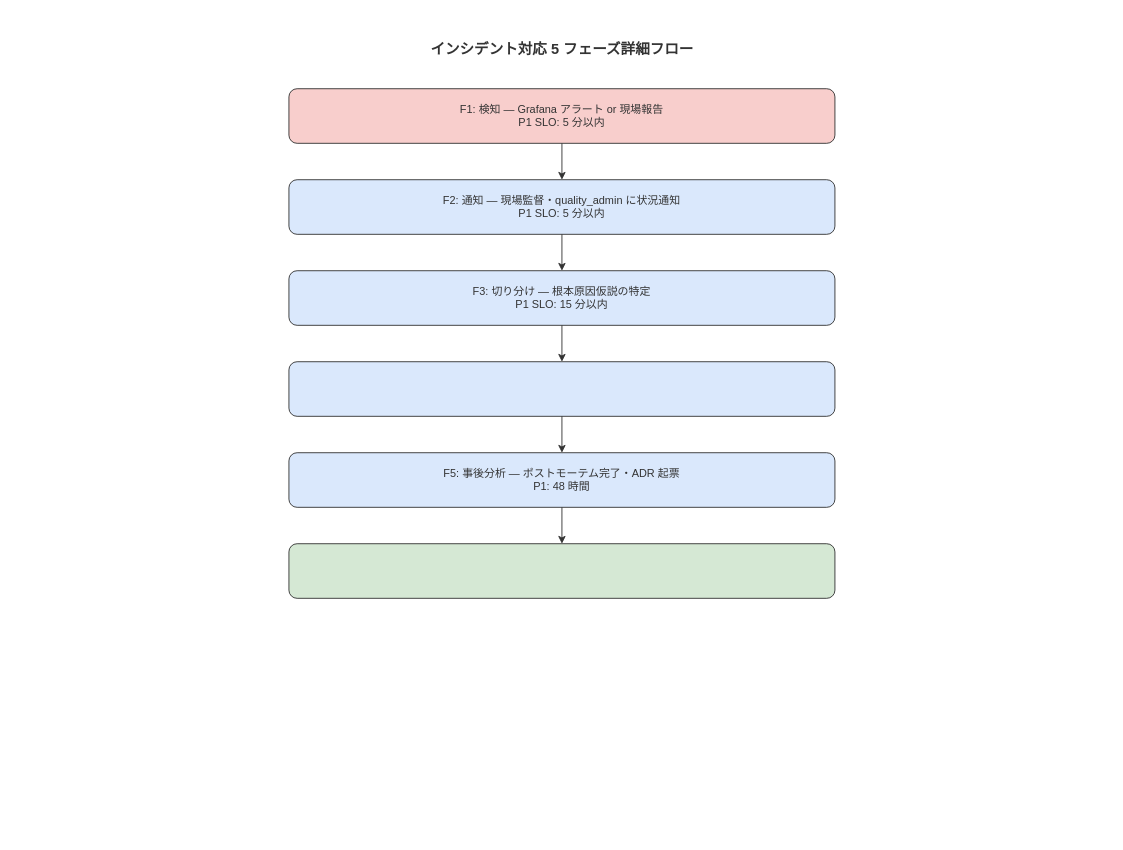
The diagram is 1123 pixels wide and 850 high, and some of its shapes have lost their labels. The shapes that lost their labels are listed below. From the top down, each one's box as (x1, y1, x2, y2) in pixels, then its label:
(288, 361, 835, 416): F4: 復旧 — システム正常化・SLO 値復帰 P1 RTO: 1 時間
(288, 543, 835, 598): インシデントクローズ
